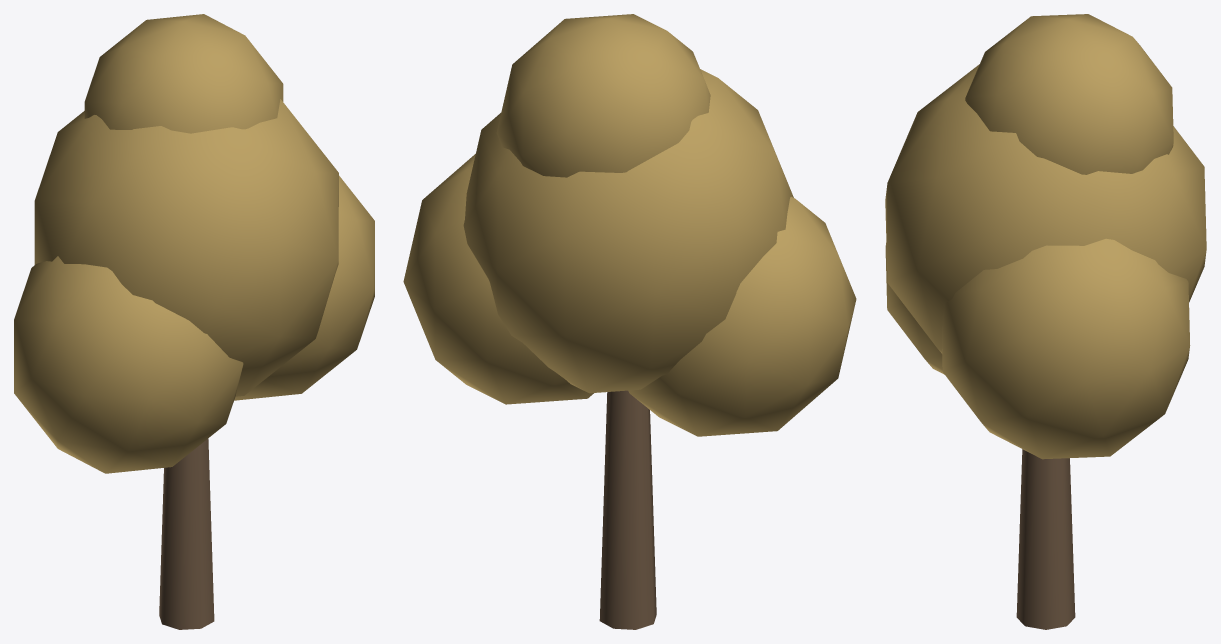
The model's file is tree-3.glb.
3 renders of one model, left to right at view 1: azimuth 30°, elevation 25°; view 2: azimuth 150°, elevation 25°; view 3: azimuth 270°, elevation 25°, orthographic. The views are drawn at different scales.
Visible parts, largest first — view 1: tree-3-0; view 2: tree-3-0; view 3: tree-3-0.
Boxes of the visible parts, x1=… form: tree-3-0: x1=14, y1=14, x2=374, y2=629; tree-3-0: x1=403, y1=14, x2=856, y2=629; tree-3-0: x1=885, y1=14, x2=1206, y2=629.
Size of the model in its own units: 1.36 by 2.04 by 0.9863.
